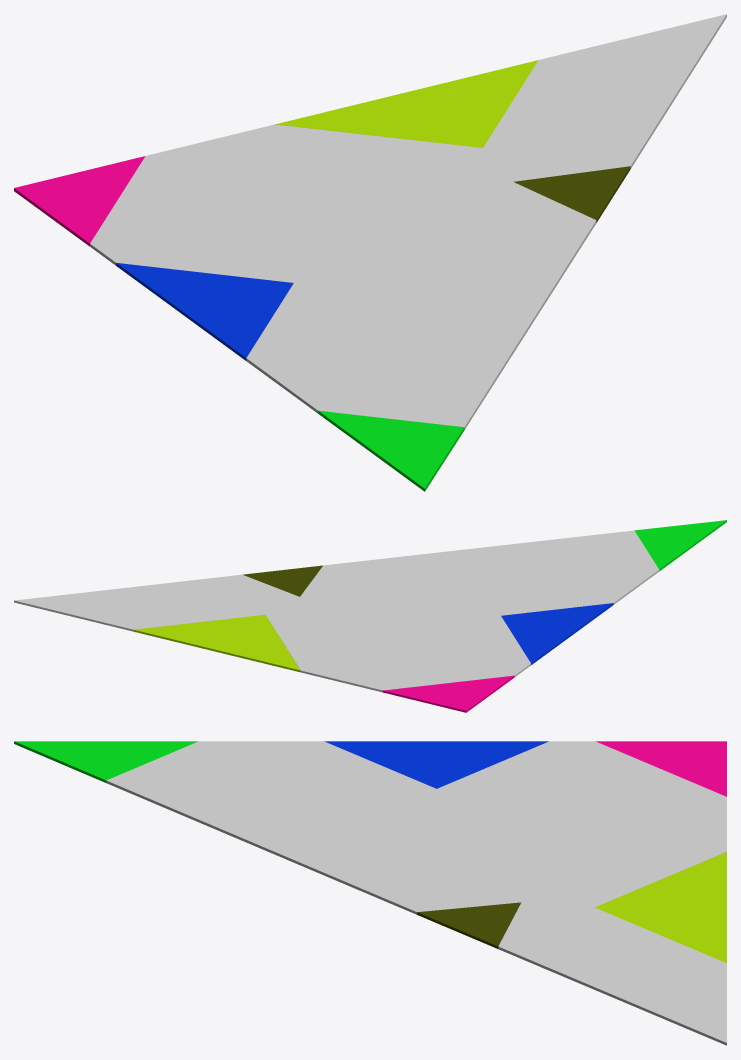
Rendered from kare2.fbx.
3 views of the same model, one above another, from view 1: azimuth 30°, elevation 25°; view 2: azimuth 150°, elevation 25°; view 3: azimuth 270°, elevation 25° (orthographic). The views are drawn at different scales.
Parts seen in each view (by area): view 1: Cube.054, Cube.053, Cube.056, Cube.061, Cube.055, Cube.062; view 2: Cube.054, Cube.053, Cube.056, Cube.055, Cube.061, Cube.062; view 3: Cube.054, Cube.053, Cube.056, Cube.061, Cube.055, Cube.062.
Part boxes in pixels (left/top/right/bottom): Cube.054: left=90, top=14, right=726, bottom=429; Cube.053: left=275, top=60, right=538, bottom=147; Cube.056: left=116, top=263, right=293, bottom=360; Cube.061: left=318, top=410, right=464, bottom=491; Cube.055: left=14, top=156, right=145, bottom=246; Cube.062: left=513, top=166, right=630, bottom=222; Cube.054: left=14, top=530, right=659, bottom=692; Cube.053: left=133, top=614, right=300, bottom=672; Cube.056: left=501, top=603, right=613, bottom=665; Cube.055: left=382, top=675, right=514, bottom=712; Cube.061: left=634, top=520, right=726, bottom=571; Cube.062: left=243, top=565, right=322, bottom=596; Cube.054: left=106, top=741, right=726, bottom=1045; Cube.053: left=595, top=852, right=726, bottom=962; Cube.056: left=324, top=741, right=548, bottom=788; Cube.061: left=14, top=741, right=197, bottom=782; Cube.055: left=596, top=741, right=726, bottom=796; Cube.062: left=417, top=902, right=521, bottom=948.
Size of the model in its own units: 0.9998 by 0.00417 by 0.9979.
